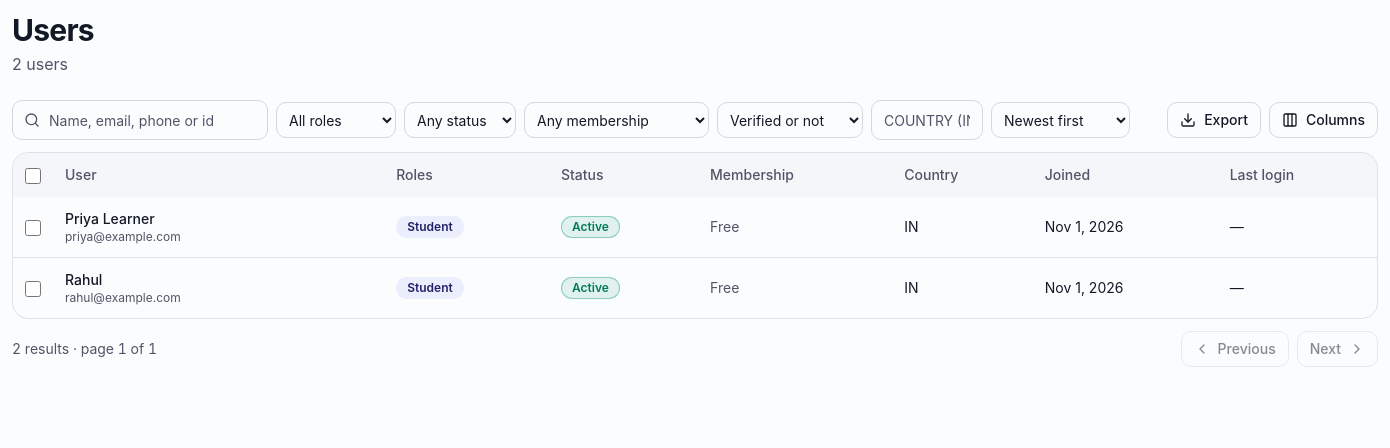
Scenario: admin users page › shows the bulk action bar when rows are selected
Expected: the text "Priya Learner" is shown, left=65, top=210, right=155, bottom=227
Click the checkbox named "Select row" next to "Priya Learner". click: [33, 228]
box: left=25, top=220, right=41, bottom=236
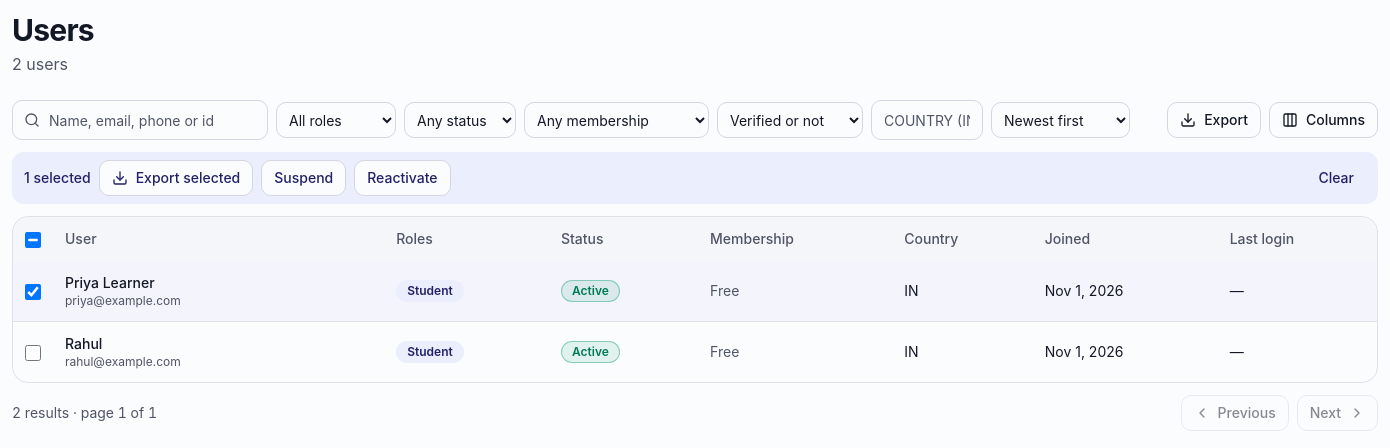
Result: the element named "Bulk actions" shows "1 selected" at left=12, top=152, right=1378, bottom=204
Result: the button "Suspend" is shown at left=261, top=160, right=346, bottom=196
Result: the button "Export selected" is shown at left=99, top=160, right=253, bottom=196
